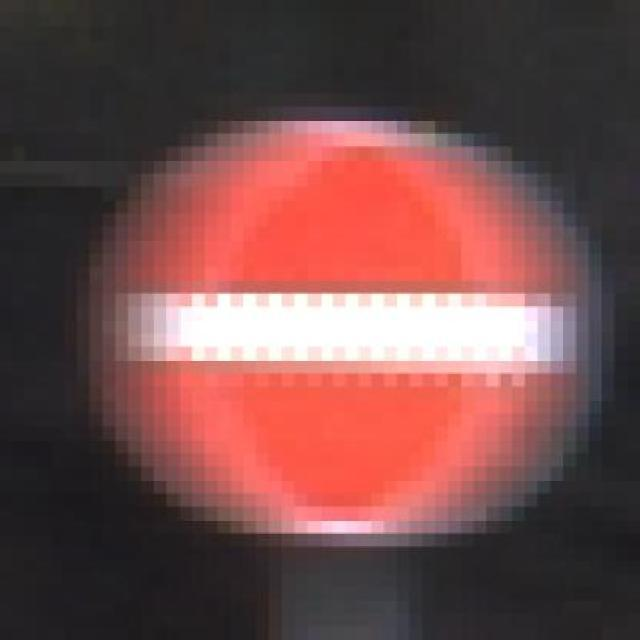B2: (94, 120, 580, 542)
